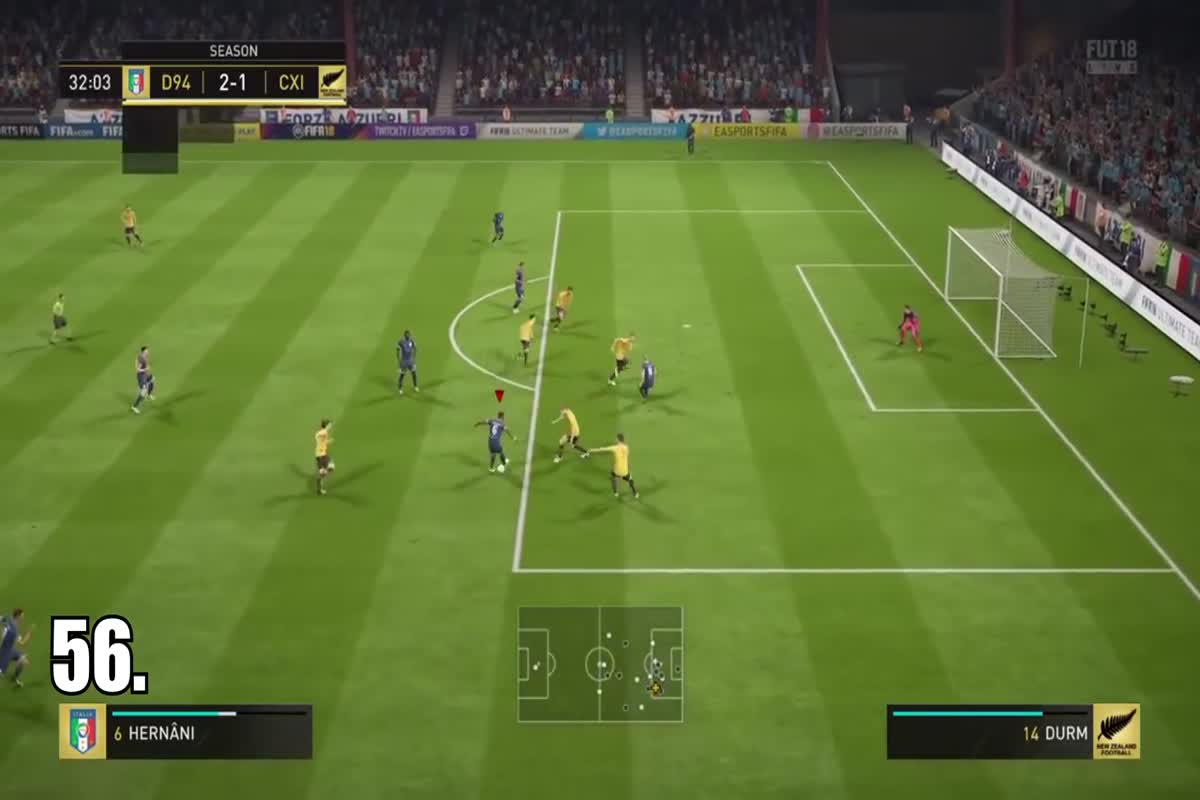ball: (487, 460, 512, 477)
